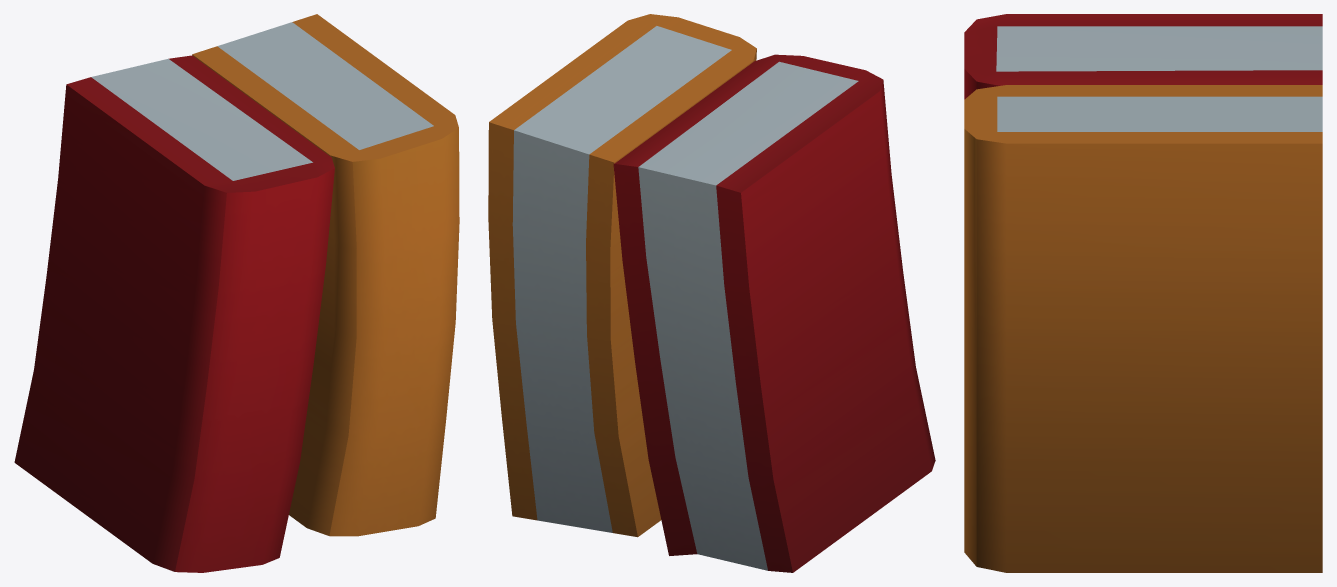
The model's file is books1_LOD_setup.fbx.
The picture shows the model from 3 angles, left to right: view 1: azimuth 30°, elevation 25°; view 2: azimuth 150°, elevation 25°; view 3: azimuth 270°, elevation 25°; orthographic projection. The views are drawn at different scales.
Parts seen in each view (by area): view 1: books1_LOD0; view 2: books1_LOD0; view 3: books1_LOD0.
Boxes of the visible parts, x1,y1,x2,y2 form: books1_LOD0: [14, 14, 459, 572]; books1_LOD0: [488, 14, 935, 572]; books1_LOD0: [964, 14, 1322, 572].
Size of what is drawn, in the model's own units: 29.45 by 36.02 by 26.34.
